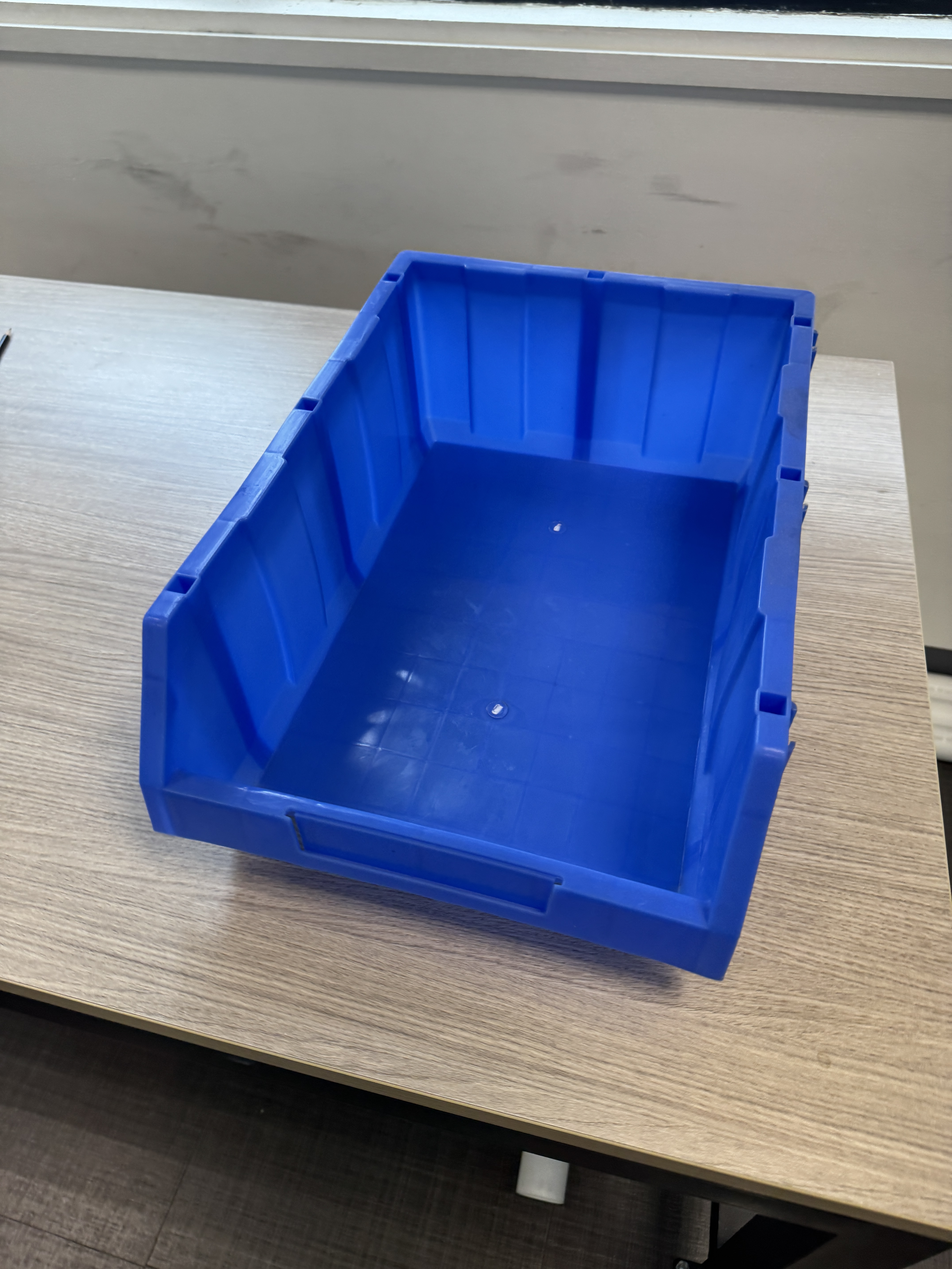Bin Boundary: (127, 173, 858, 910)
